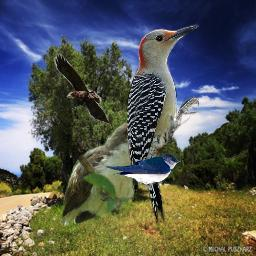Crow: (54, 53, 110, 124)
Cuckoo: (59, 121, 165, 228)
Swallow: (105, 153, 181, 190)
Woodpecker: (127, 21, 202, 232)
